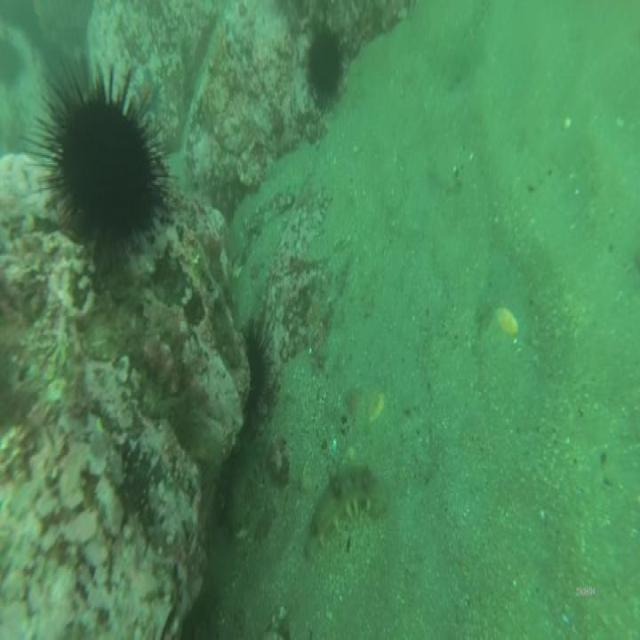echinus: (50, 79, 160, 265), (305, 21, 344, 109), (239, 318, 272, 420)
holothurian: (302, 458, 388, 547)
